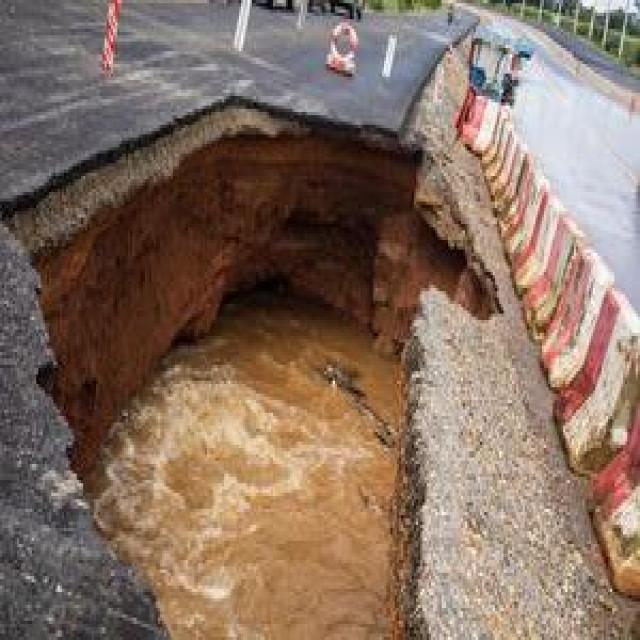road collapse: (7, 26, 640, 639)
